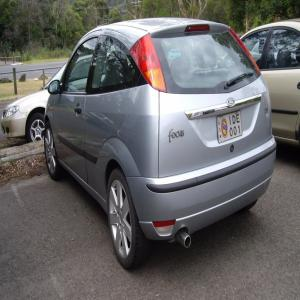Vehicle-registration-plate: (217, 112, 244, 145)
